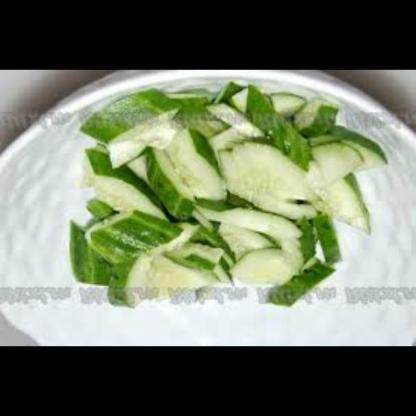cucumber: (69, 92, 369, 300)
